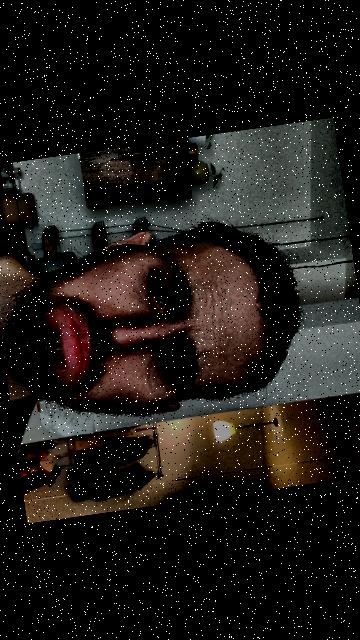sad: (0, 205, 321, 439)
